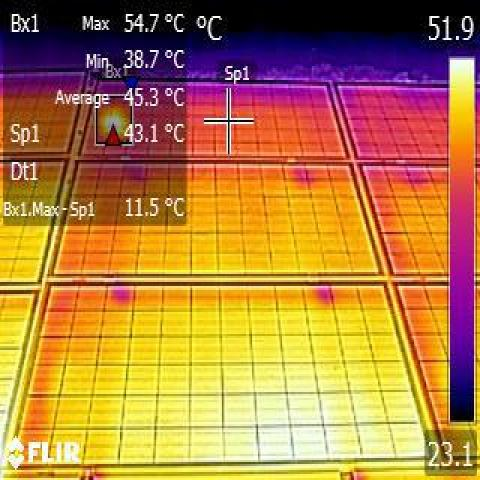fault: (208, 394, 364, 468)
